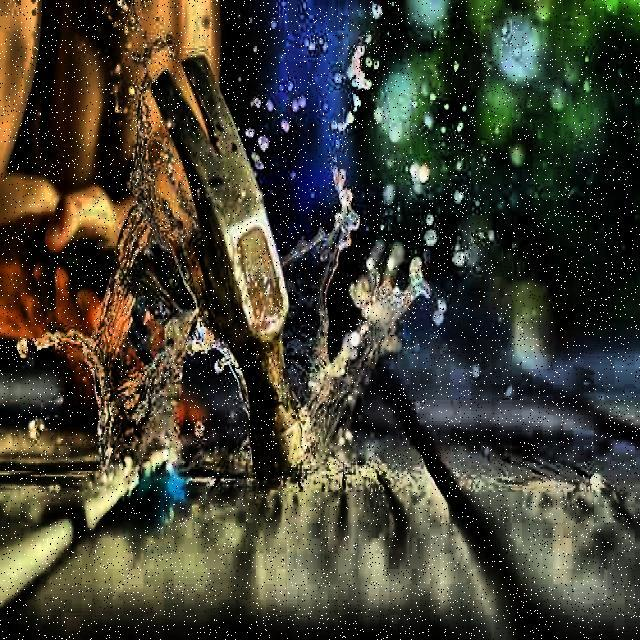hammer: (0, 61, 320, 481)
